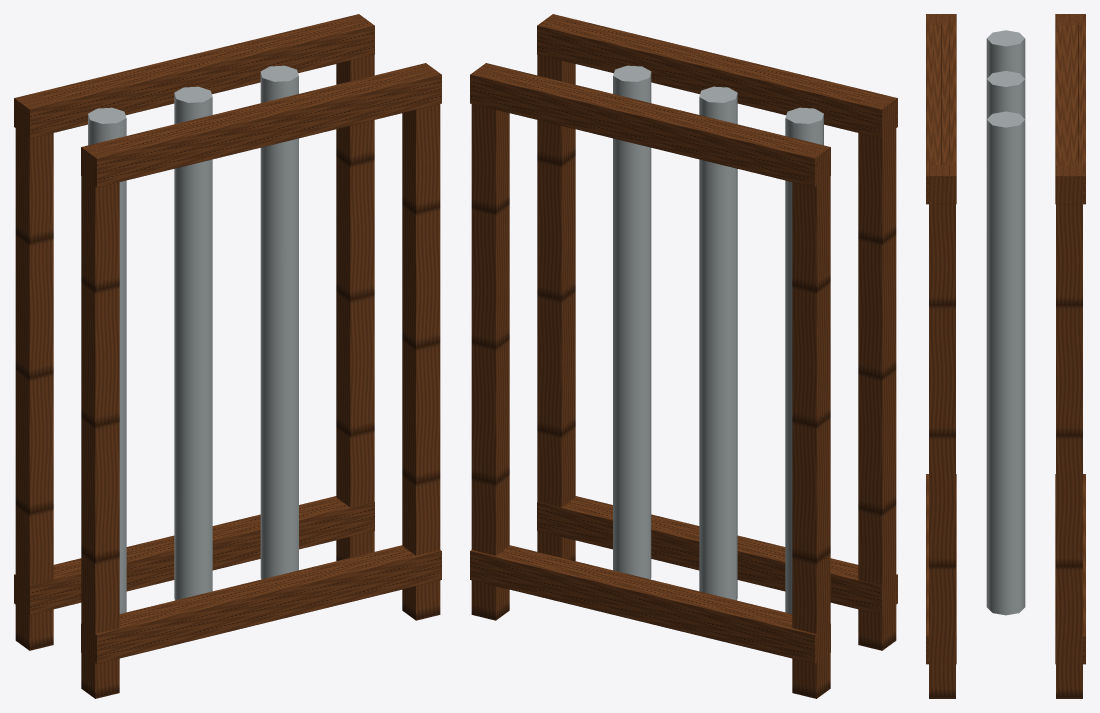
File: bunker-shelter-construction-pipe-service-rack-4e920874__23323.glb
3 views of the same model, side by side, from view 1: azimuth 30°, elevation 25°; view 2: azimuth 150°, elevation 25°; view 3: azimuth 270°, elevation 25° (orthographic). The views are drawn at different scales.
Visible parts, largest first — view 1: pipe-service-rack; view 2: pipe-service-rack; view 3: pipe-service-rack.
Boxes of the visible parts, x1,y1,x2,y2 form: pipe-service-rack: (14, 14, 441, 698); pipe-service-rack: (470, 14, 897, 698); pipe-service-rack: (926, 14, 1085, 698).
Size of the model in its own units: 1 by 1.5 by 0.4161.
2 materials, 1 textured.
